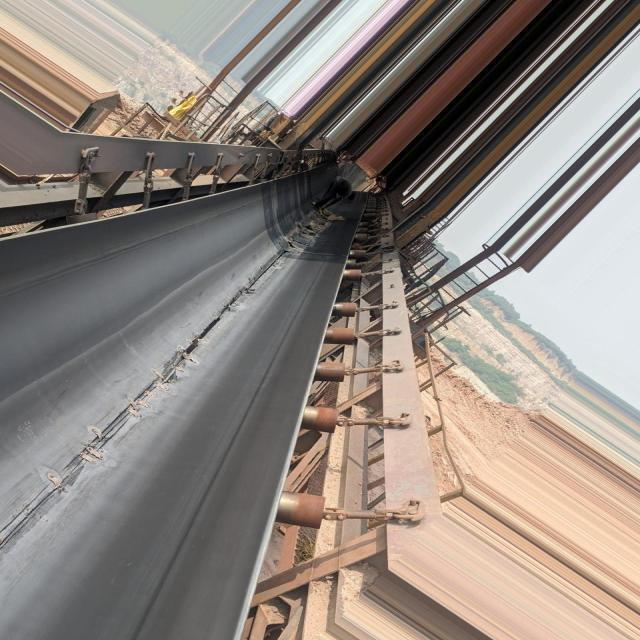Tear: (125, 242, 298, 411)
